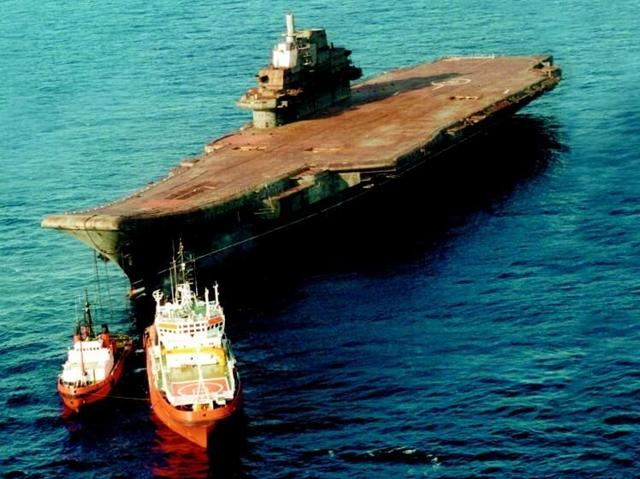airplane: (58, 307, 125, 415)
warship: (29, 9, 561, 281), (130, 271, 245, 444)
